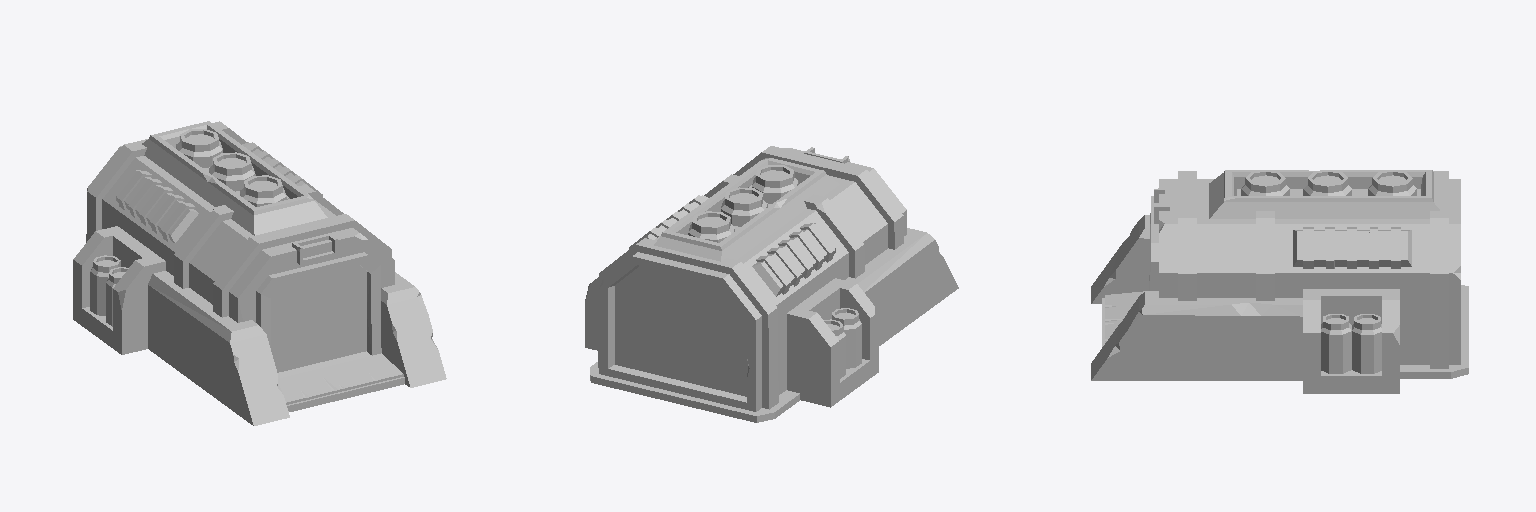
File: SciFi_Building_Large05.obj
3 views of the same model, side by side, from view 1: azimuth 30°, elevation 25°; view 2: azimuth 150°, elevation 25°; view 3: azimuth 270°, elevation 25° (orthographic).
Parts seen in each view (by area): view 1: SM_Bld_Large_05; view 2: SM_Bld_Large_05; view 3: SM_Bld_Large_05.
Part boxes in pixels (bbox=[...]): SM_Bld_Large_05: bbox=[73, 121, 446, 425]; SM_Bld_Large_05: bbox=[585, 146, 958, 422]; SM_Bld_Large_05: bbox=[1091, 170, 1468, 393].
Size of the model in its own units: 1.65 by 1 by 2.2.